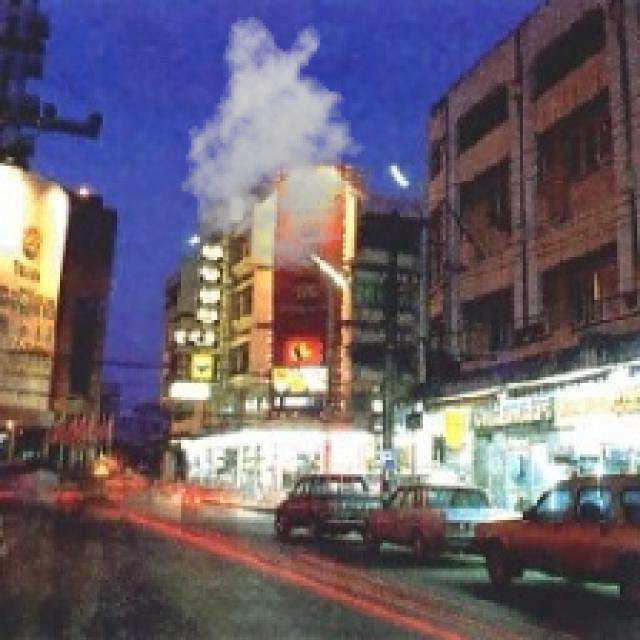Smoke: (174, 14, 374, 274)
